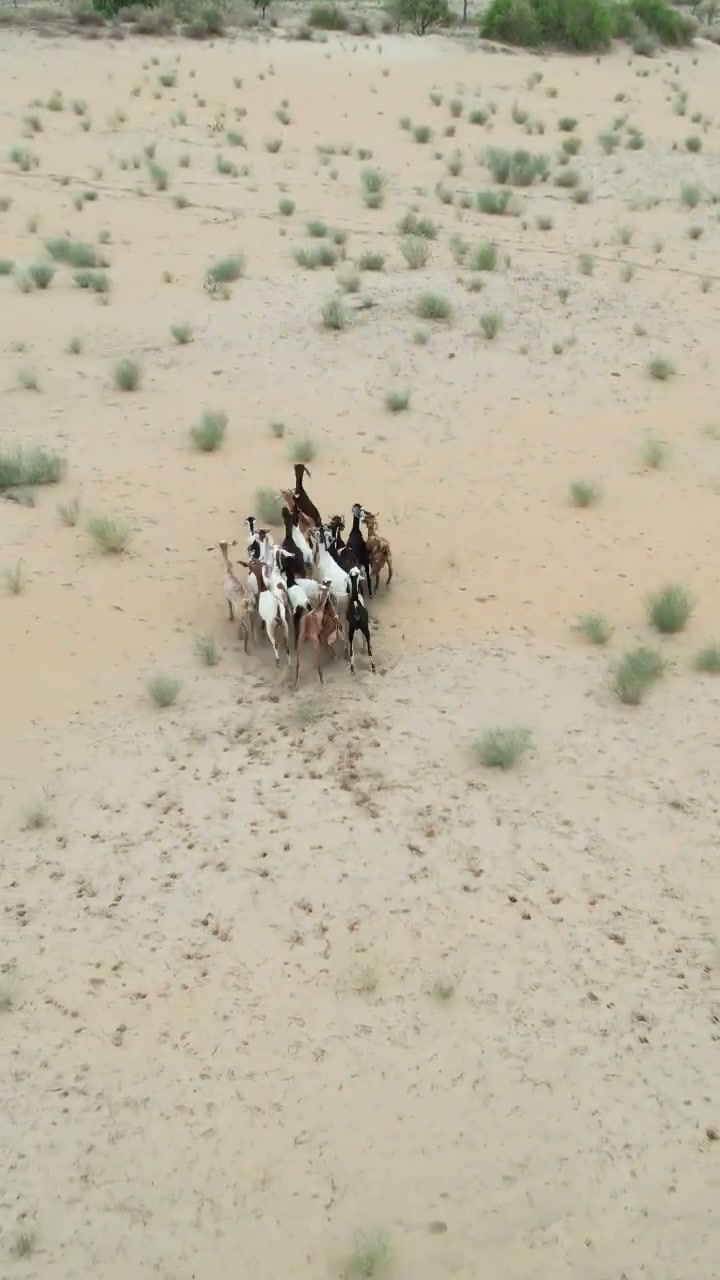animal_foot_print: (12, 713, 691, 1277)
